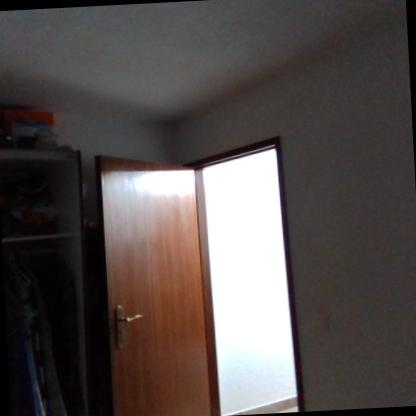open: (82, 127, 317, 416)
